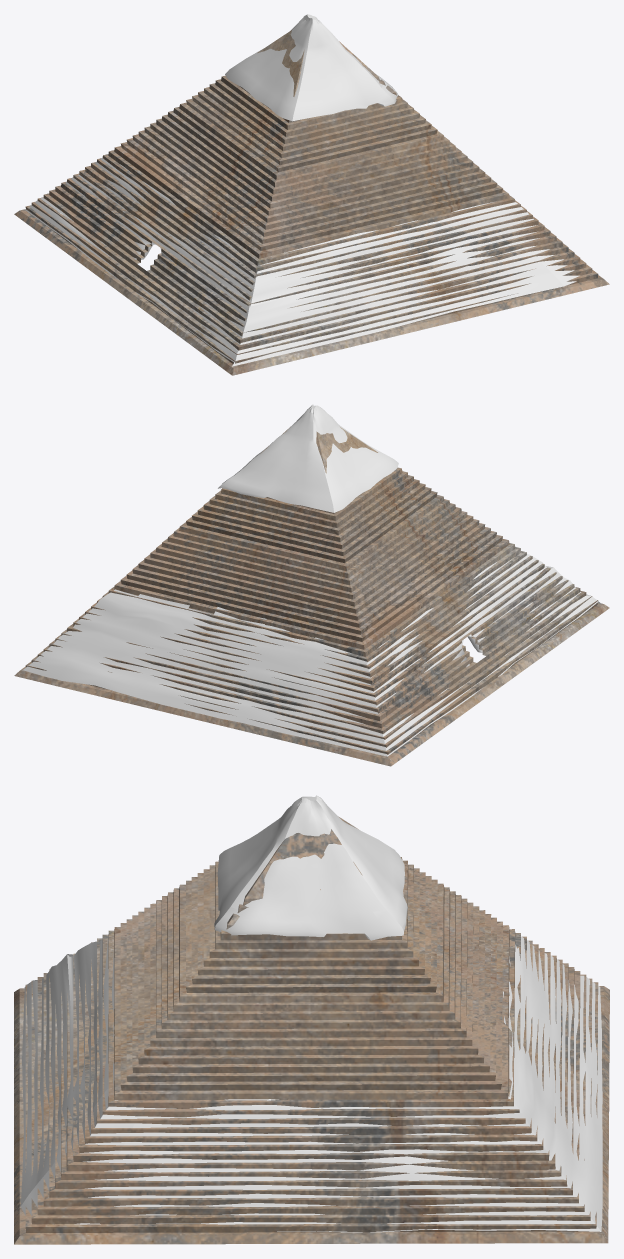
File: Pyramid of giza.fbx
The picture shows the model from 3 angles, top to bottom: view 1: azimuth 30°, elevation 25°; view 2: azimuth 150°, elevation 25°; view 3: azimuth 270°, elevation 25°; orthographic projection. The views are drawn at different scales.
Parts seen in each view (by area): view 1: pCube1_Ceiling_0.025, pCube1_Ceiling_0.015, pCube1_Ceiling_0.002; view 2: pCube1_Ceiling_0.025, pCube1_Ceiling_0.015, pCube1_Ceiling_0.002; view 3: pCube1_Ceiling_0.025, pCube1_Ceiling_0.015, pCube1_Ceiling_0.002.
Boxes of the visible parts, box(x1,y1,x2,y2) form: pCube1_Ceiling_0.025: box(14, 30, 609, 375); pCube1_Ceiling_0.015: box(24, 158, 579, 366); pCube1_Ceiling_0.002: box(225, 14, 398, 121); pCube1_Ceiling_0.025: box(14, 426, 609, 766); pCube1_Ceiling_0.015: box(23, 553, 601, 756); pCube1_Ceiling_0.002: box(218, 404, 398, 512); pCube1_Ceiling_0.025: box(14, 816, 609, 1244); pCube1_Ceiling_0.015: box(20, 936, 602, 1232); pCube1_Ceiling_0.002: box(214, 795, 407, 940).
Bounding box in the file's own units: 9223 × 5501 × 9237.
